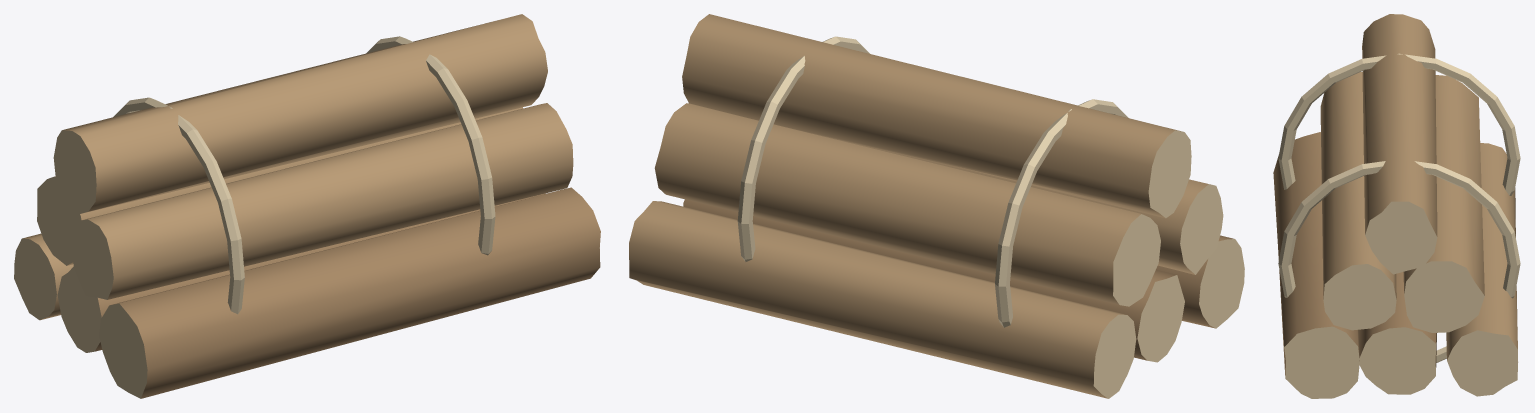
Rendered from brennholz.glb.
The picture shows the model from 3 angles, left to right: view 1: azimuth 30°, elevation 25°; view 2: azimuth 150°, elevation 25°; view 3: azimuth 270°, elevation 25°; orthographic projection. The views are drawn at different scales.
Visible parts, largest first — view 1: Brennholz; view 2: Brennholz; view 3: Brennholz.
Part boxes in pixels (<box>): Brennholz: <box>14,14,600,398</box>; Brennholz: <box>629,14,1244,398</box>; Brennholz: <box>1273,14,1520,398</box>.
Bounding box in the file's own units: 0.596 × 0.299 × 0.3171.
